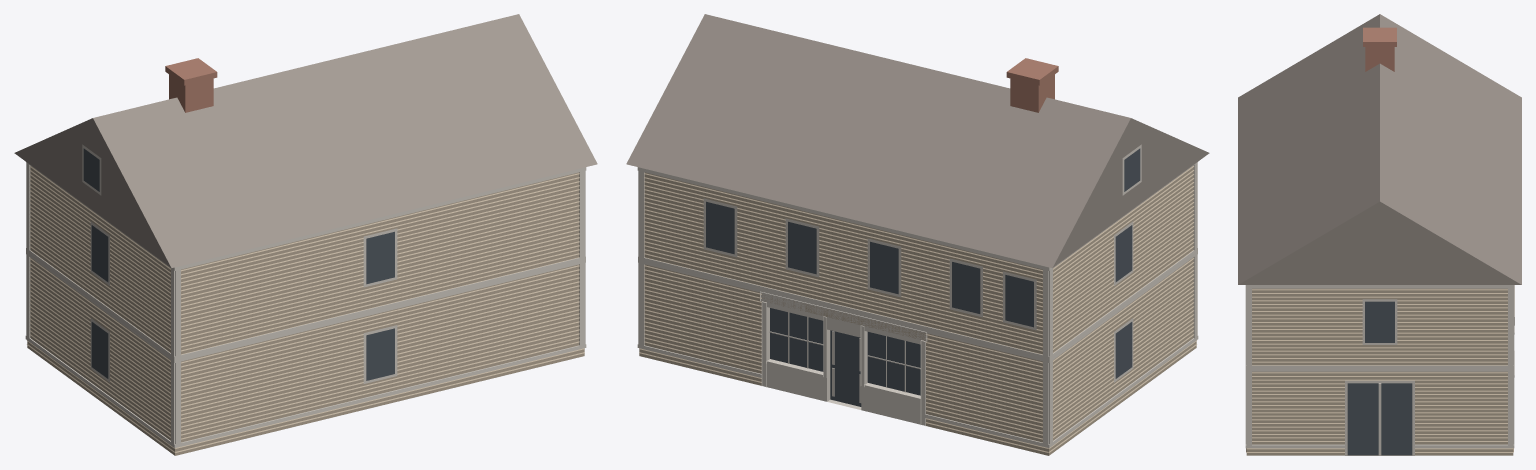
The model's file is peck_store__frame_1833.glb.
The picture shows the model from 3 angles, left to right: view 1: azimuth 30°, elevation 25°; view 2: azimuth 150°, elevation 25°; view 3: azimuth 270°, elevation 25°; orthographic projection. The views are drawn at different scales.
Parts seen in each view (by area): view 1: peck_store__frame_1833; view 2: peck_store__frame_1833; view 3: peck_store__frame_1833.
Part boxes in pixels (left/top/right/bottom): peck_store__frame_1833: left=14, top=14, right=597, bottom=455; peck_store__frame_1833: left=626, top=14, right=1209, bottom=455; peck_store__frame_1833: left=1238, top=14, right=1521, bottom=455.
Bounding box in the file's own units: 12.73 × 8.85 × 8.12.
